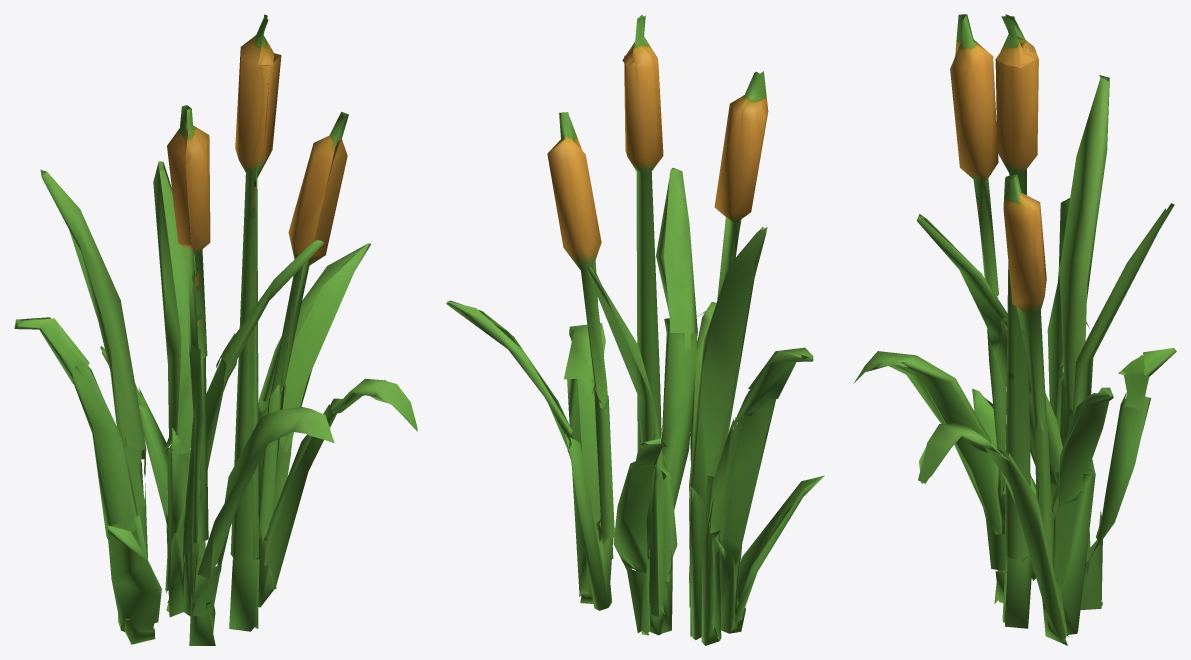
3 views of the same model, side by side, from view 1: azimuth 30°, elevation 25°; view 2: azimuth 150°, elevation 25°; view 3: azimuth 270°, elevation 25° (orthographic). The views are drawn at different scales.
Parts seen in each view (by area): view 1: quad; view 2: quad; view 3: quad.
Boxes of the visible parts, <box> form: quad: <box>14,14,417,645</box>; quad: <box>446,14,824,645</box>; quad: <box>853,14,1176,645</box>.
Bounding box in the file's own units: 88.9 × 140 × 66.35.
Materials: 1 (1 with a texture image).
